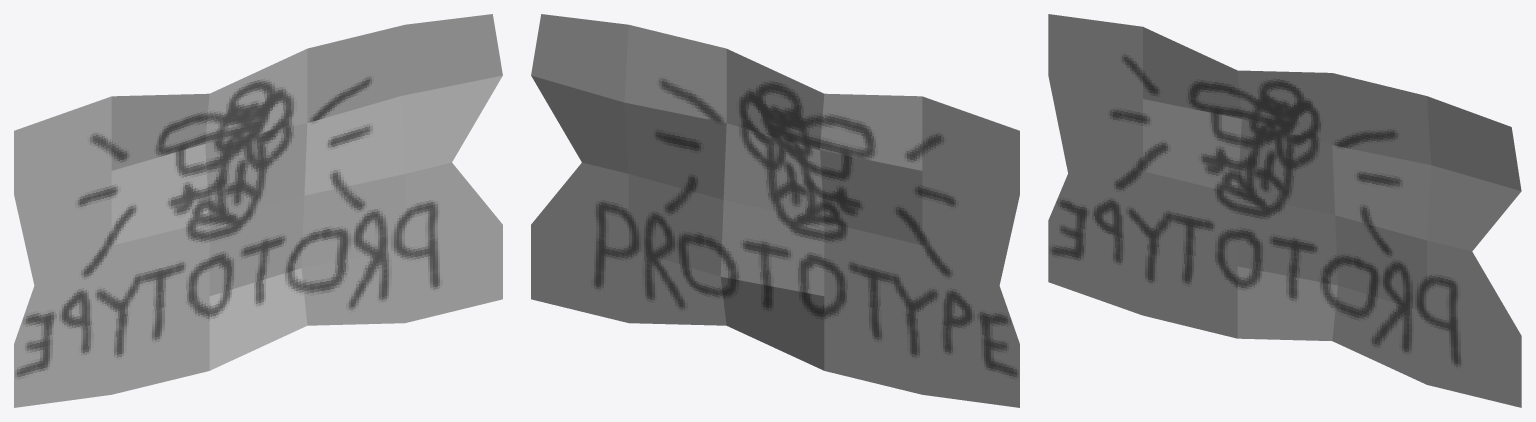
The model's file is posterB.gltf.
3 views of the same model, side by side, from view 1: azimuth 30°, elevation 25°; view 2: azimuth 150°, elevation 25°; view 3: azimuth 330°, elevation 25° (orthographic). The views are drawn at different scales.
Visible parts, largest first — view 1: plane; view 2: plane; view 3: plane.
Part boxes in pixels (left/top/right/bottom): plane: left=14, top=14, right=502, bottom=407; plane: left=531, top=14, right=1019, bottom=407; plane: left=1048, top=14, right=1521, bottom=407.
Bounding box in the file's own units: 3 × 1.75 × 0.0625.
Materials: 1 (1 with a texture image).
